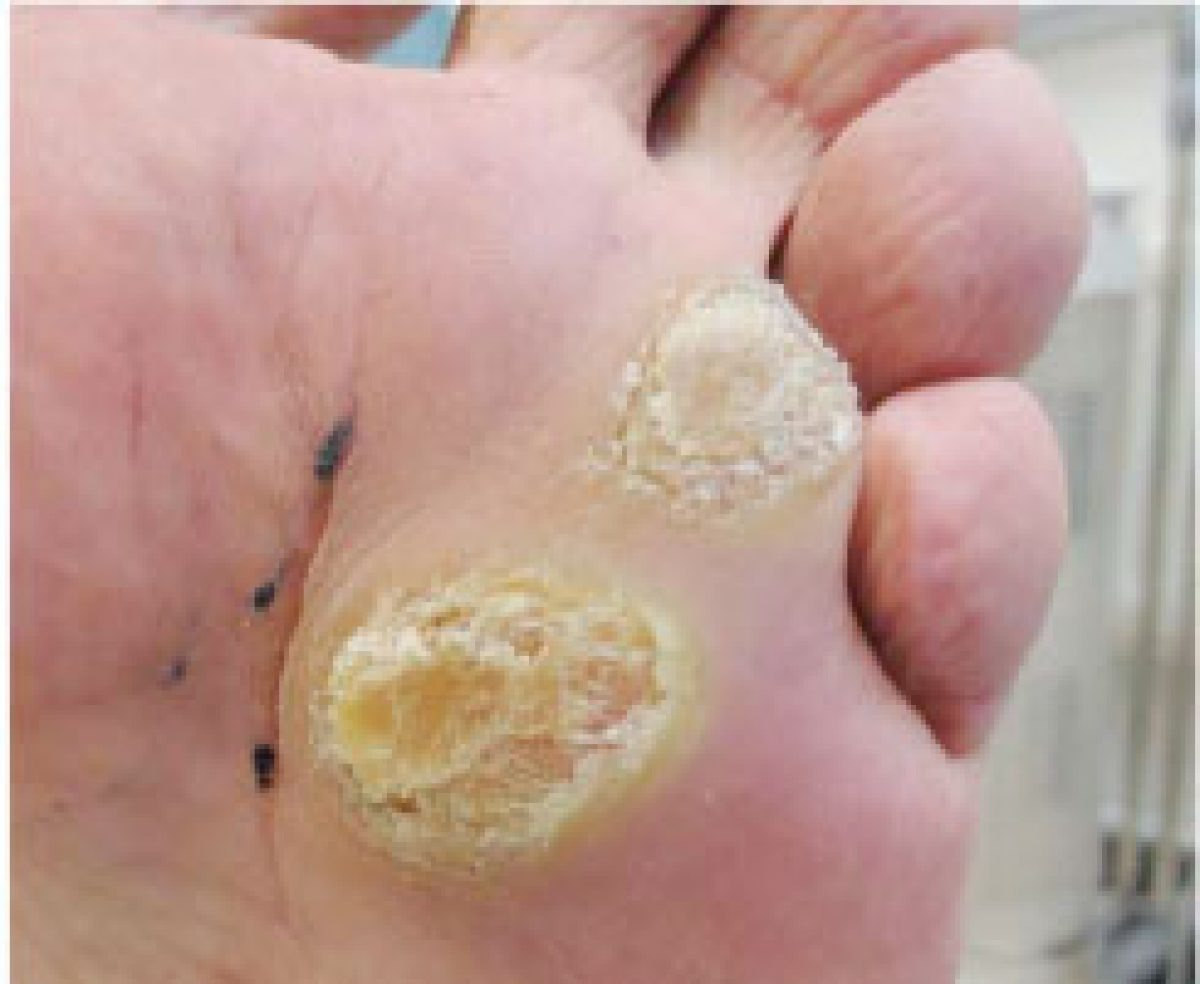Warts: (267, 515, 755, 910), (585, 227, 890, 555)
